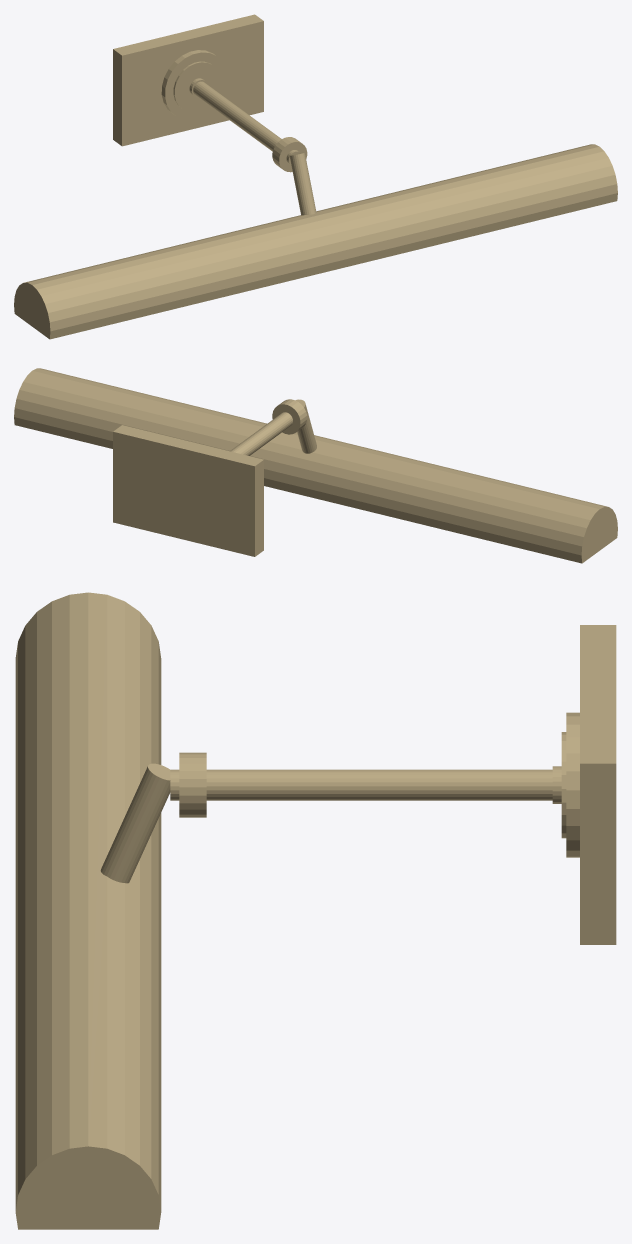
Rendered from den_tranh.glb.
3 views of the same model, one above another, from view 1: azimuth 30°, elevation 25°; view 2: azimuth 150°, elevation 25°; view 3: azimuth 270°, elevation 25° (orthographic). The views are drawn at different scales.
Visible parts, largest first — view 1: Node198, Node59, Node60, Node58, Node61, Node57, Node62, Node63, Node64, Node1, Node200, Node26 (+3 smaller); view 2: Node197, Node67, Node66, Node68, Node65, Node69, Node55, Node64, Node63, Node200, Node54, Node62 (+2 smaller); view 3: Node63, Node64, Node27, Node62, Node65, Node61, Node66, Node196, Node60, Node67, Node200, Node59 (+12 smaller).
Part boxes in pixels (x1,y1,x2,y2): Node198: (122, 21, 263, 146); Node59: (48, 174, 617, 322); Node60: (45, 166, 615, 312); Node58: (49, 184, 617, 331); Node61: (41, 157, 612, 303); Node57: (49, 193, 617, 339); Node62: (37, 151, 608, 295); Node63: (32, 146, 603, 289); Node64: (28, 144, 598, 284); Node1: (165, 52, 227, 119); Node200: (113, 14, 263, 55); Node26: (174, 62, 220, 111); Node197: (113, 432, 254, 556); Node67: (16, 390, 586, 536); Node66: (19, 382, 590, 528); Node68: (14, 399, 583, 546); Node65: (23, 375, 594, 519); Node69: (14, 408, 581, 555); Node55: (14, 417, 582, 563); Node64: (28, 370, 599, 513); Node63: (32, 368, 603, 508); Node200: (113, 425, 263, 466); Node54: (581, 507, 617, 562); Node62: (37, 368, 607, 506); Node63: (69, 592, 88, 1148); Node64: (88, 592, 107, 1148); Node27: (15, 1146, 161, 1229); Node62: (52, 595, 69, 1154); Node65: (107, 595, 124, 1154); Node61: (37, 601, 51, 1165); Node66: (125, 601, 139, 1165); Node196: (580, 763, 616, 944); Node60: (25, 612, 36, 1178); Node67: (140, 612, 151, 1178); Node200: (580, 625, 616, 763); Node59: (18, 626, 25, 1194).
Size of the model in its own units: 18 by 3.91 by 8.25.
